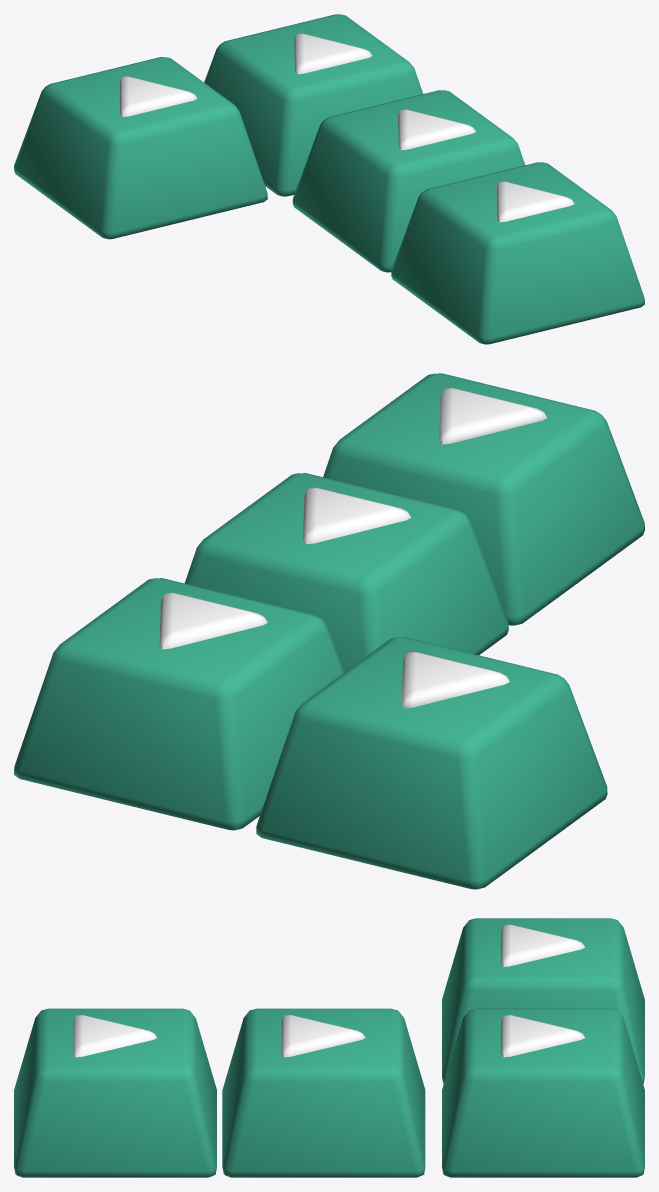
File: L_piece down_low poly.fbx
3 renders of one model, top to bottom at view 1: azimuth 30°, elevation 25°; view 2: azimuth 150°, elevation 25°; view 3: azimuth 270°, elevation 25°, orthographic. The views are drawn at different scales.
Parts seen in each view (by area): view 1: Cube.046; view 2: Cube.046; view 3: Cube.046.
Part boxes in pixels (x1,y1,x2,y2): Cube.046: [14, 14, 644, 344]; Cube.046: [14, 373, 644, 889]; Cube.046: [14, 918, 644, 1177].
Size of the model in its own units: 41.32 by 7.84 by 27.31.
